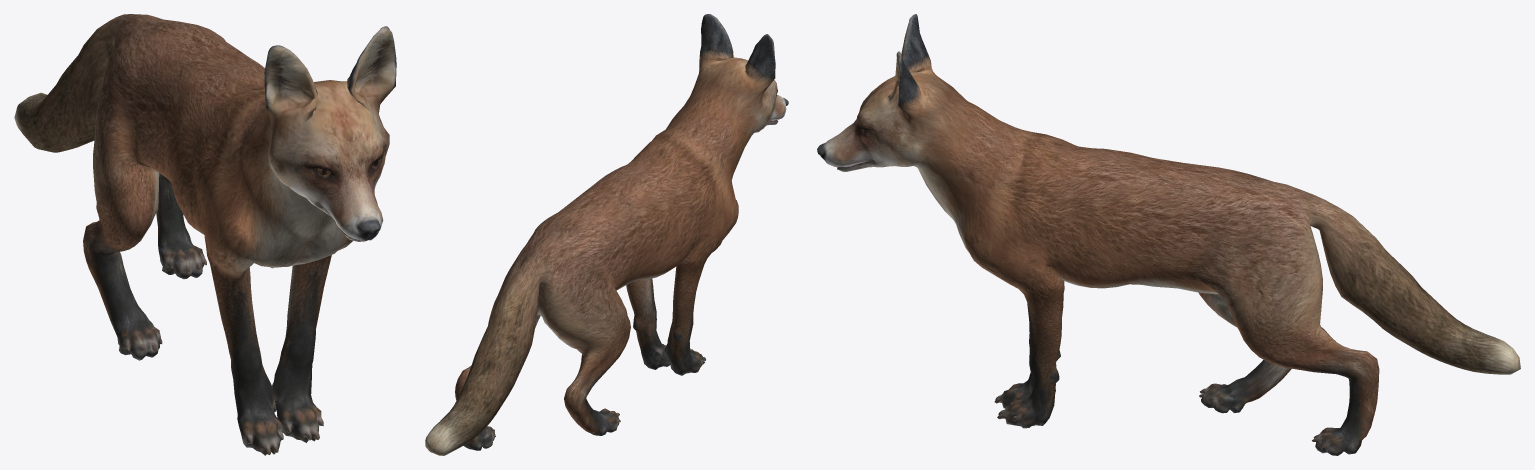
The model's file is a_fox.glb.
The picture shows the model from 3 angles, left to right: view 1: azimuth 30°, elevation 25°; view 2: azimuth 150°, elevation 25°; view 3: azimuth 270°, elevation 25°; orthographic projection. The views are drawn at different scales.
Parts seen in each view (by area): view 1: Goose.003_applied_clean_M_Goose2_0_M_Fox_0; view 2: Goose.003_applied_clean_M_Goose2_0_M_Fox_0; view 3: Goose.003_applied_clean_M_Goose2_0_M_Fox_0.
Boxes of the visible parts, <box> form: Goose.003_applied_clean_M_Goose2_0_M_Fox_0: <box>14,14,396,455</box>; Goose.003_applied_clean_M_Goose2_0_M_Fox_0: <box>425,14,788,455</box>; Goose.003_applied_clean_M_Goose2_0_M_Fox_0: <box>817,14,1520,455</box>.
Size of the model in its own units: 0.2486 by 0.5581 by 0.95.
1 material, 1 textured.
